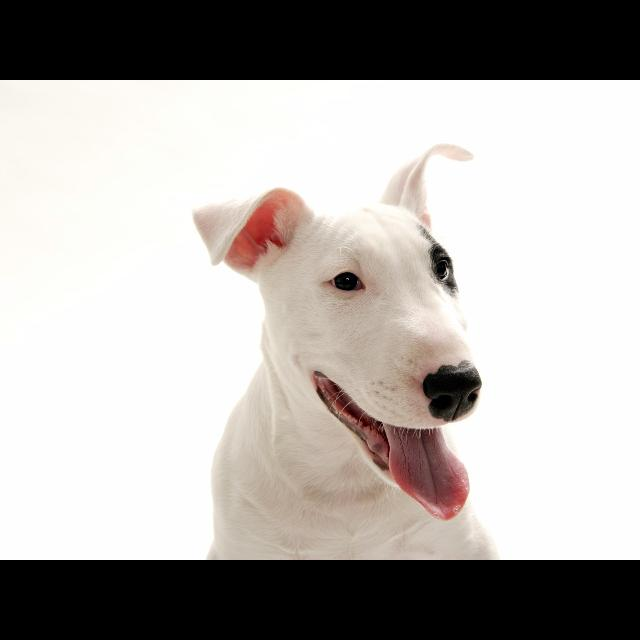bullterrier: (193, 143, 502, 560)
